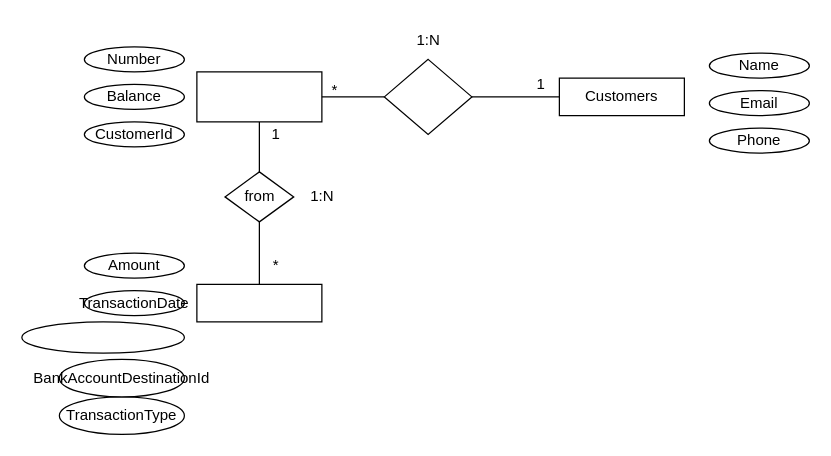
Some shapes in this 831 by 456 pixel diagram are drawn without their labels. Here are the shapes that lost their labels. From the top down, the centre of each, then its label:
At point (259, 96): "BankAccounts".
At point (427, 96): "have".
At point (259, 302): "Transactions".
At point (102, 337): "BankAccountOriginId".
